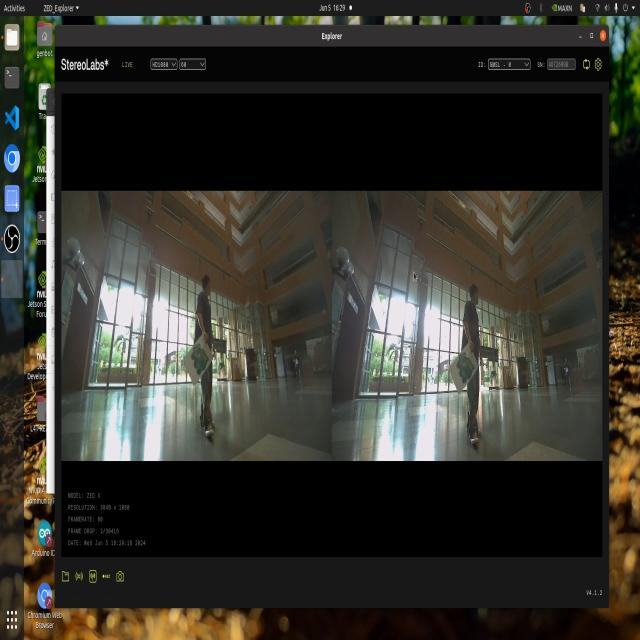green: (186, 346, 217, 380), (456, 354, 472, 386)
